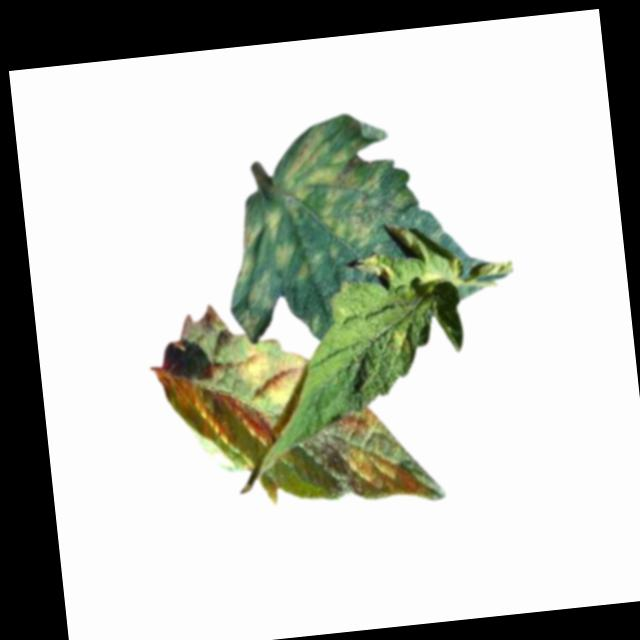Leaf_Mold: (275, 114, 413, 259), (156, 359, 273, 466), (332, 401, 428, 503), (226, 206, 297, 337), (237, 337, 314, 414), (385, 325, 413, 357)
